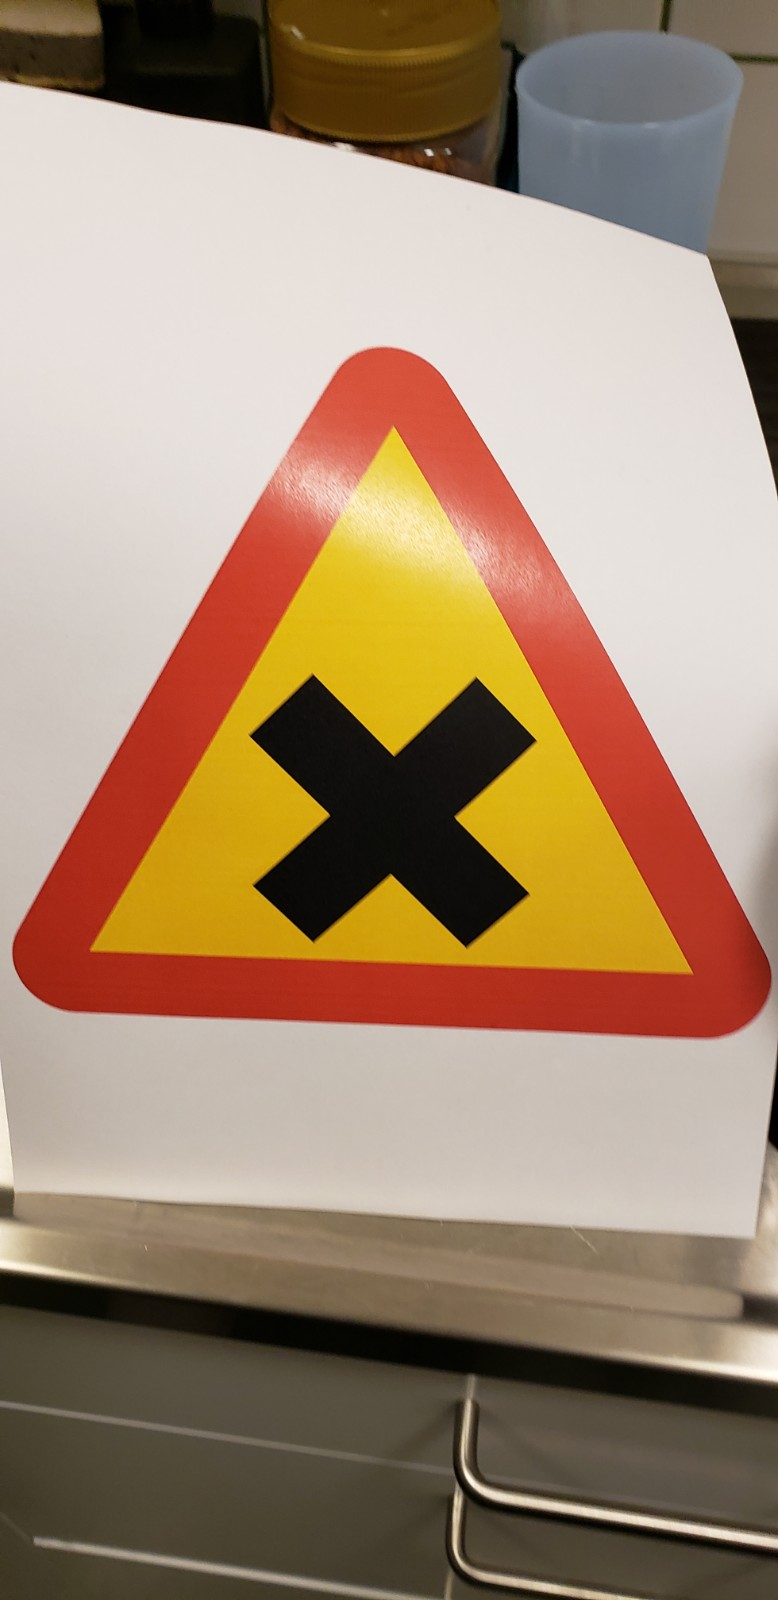junction: (19, 292, 778, 1201)
